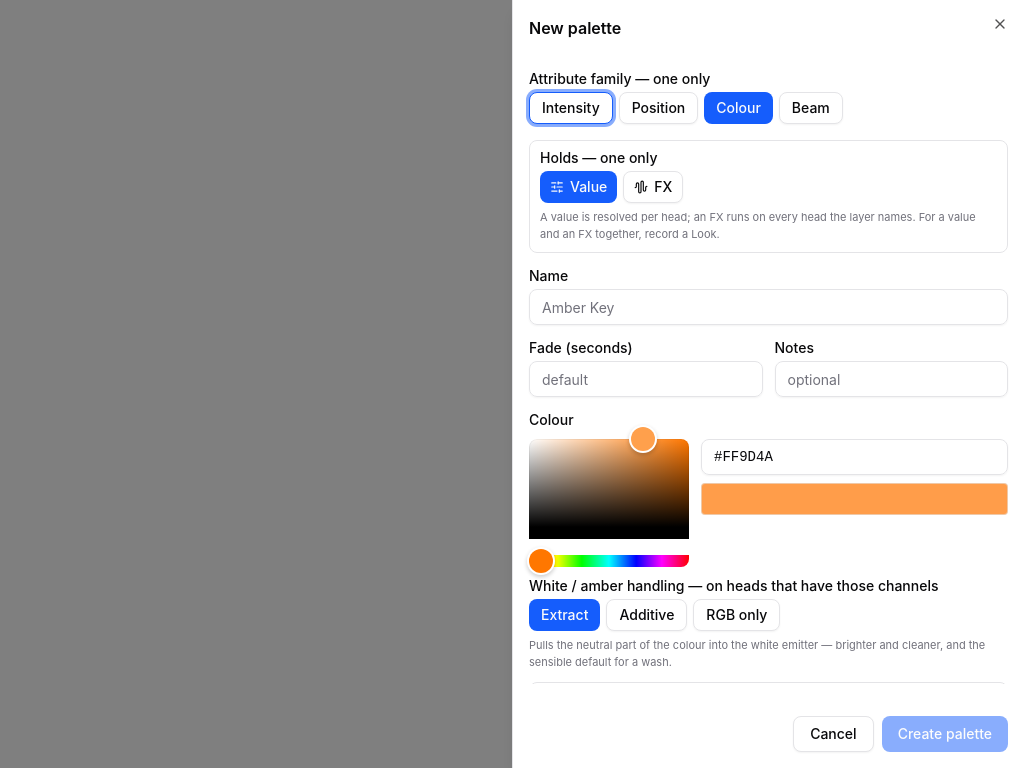
it: the effect branch › hides Fade, which an effect has no arrival to time
Expected: the field labelled "Fade (seconds)" is shown, x1=529 y1=361 x2=762 y2=397
Click the button "FX". click: [653, 187]
box: x1=623 y1=171 x2=683 y2=203
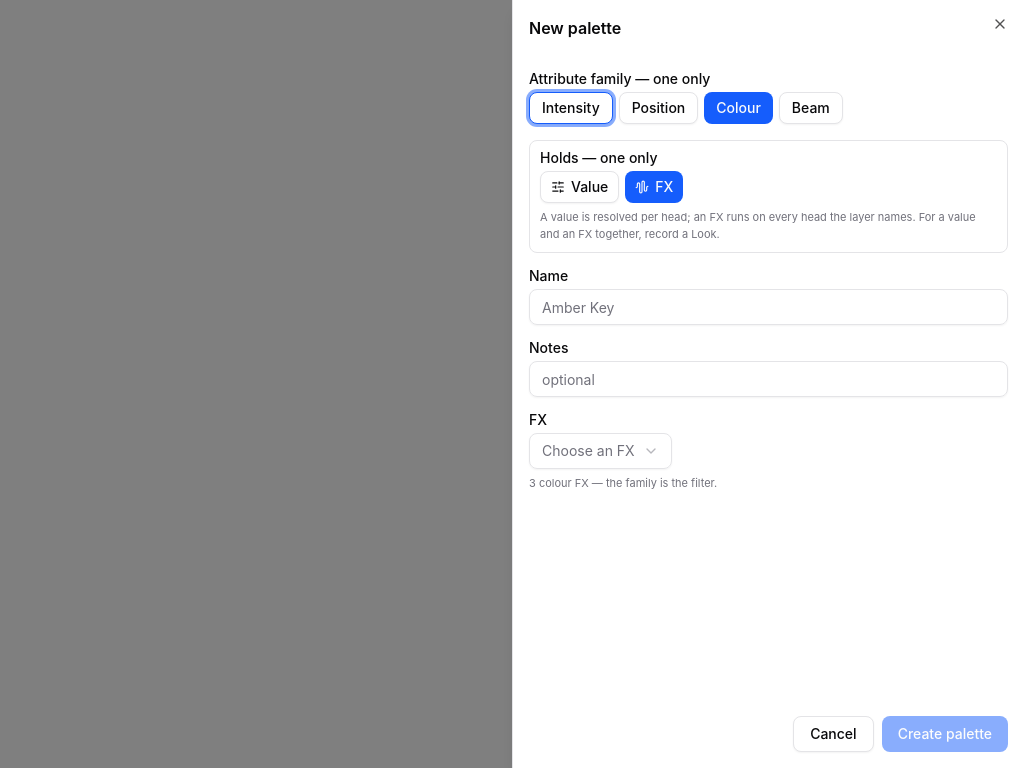
Expected: the label labelled "Fade" is gone
